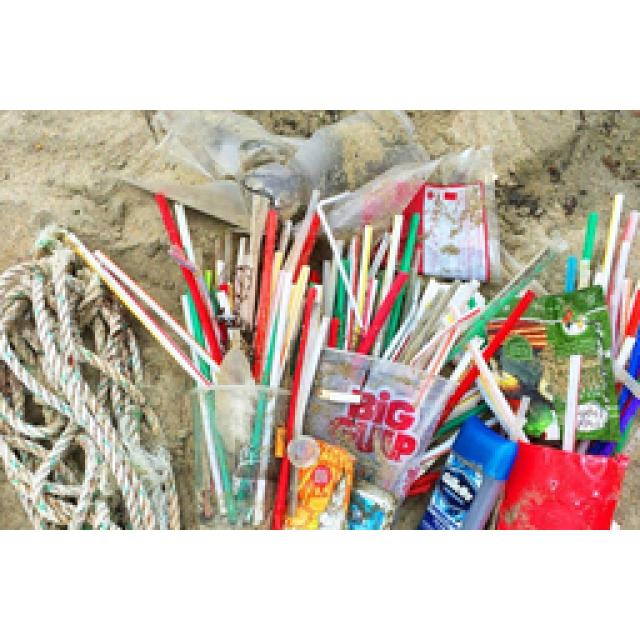plastic: (65, 195, 238, 385), (250, 195, 418, 380), (595, 195, 638, 322), (578, 260, 588, 268)
